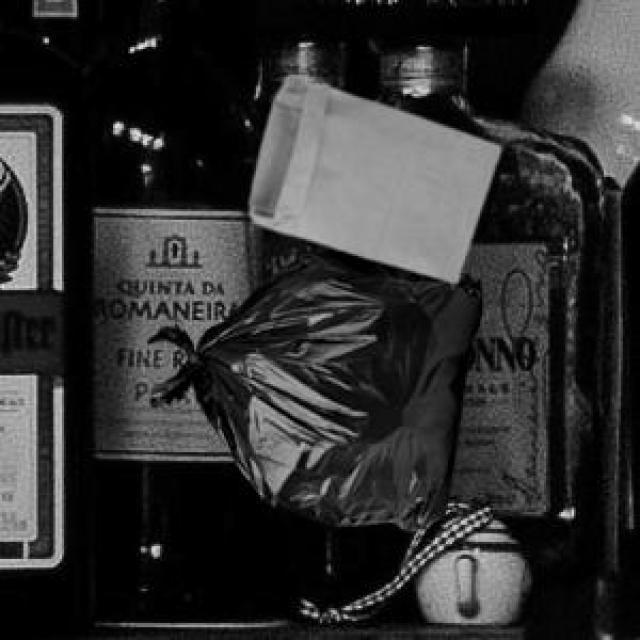miscellaneous trash: (143, 245, 476, 527)
paper: (245, 73, 497, 280)
